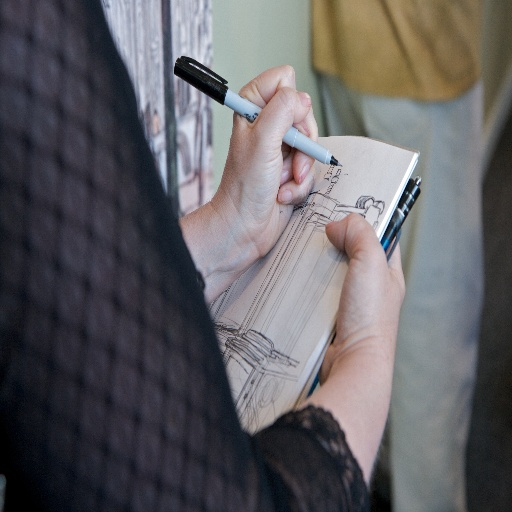hand: (190, 56, 336, 273), (316, 208, 407, 386)
